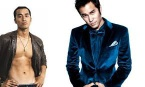male: (72, 2, 124, 42), (14, 5, 35, 31)
